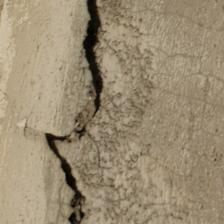Crack: (6, 0, 96, 127), (0, 19, 102, 90)
